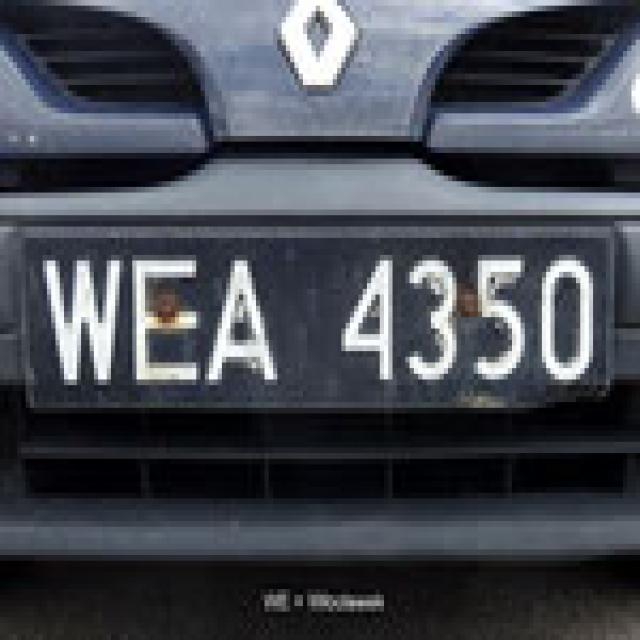pl_license_plate: (21, 232, 606, 396)
